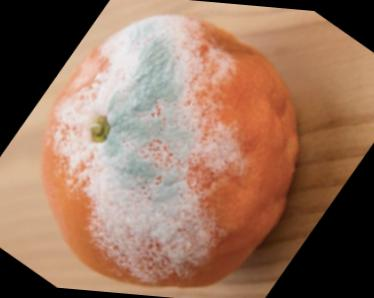Orange Rotten: (30, 2, 312, 298)
